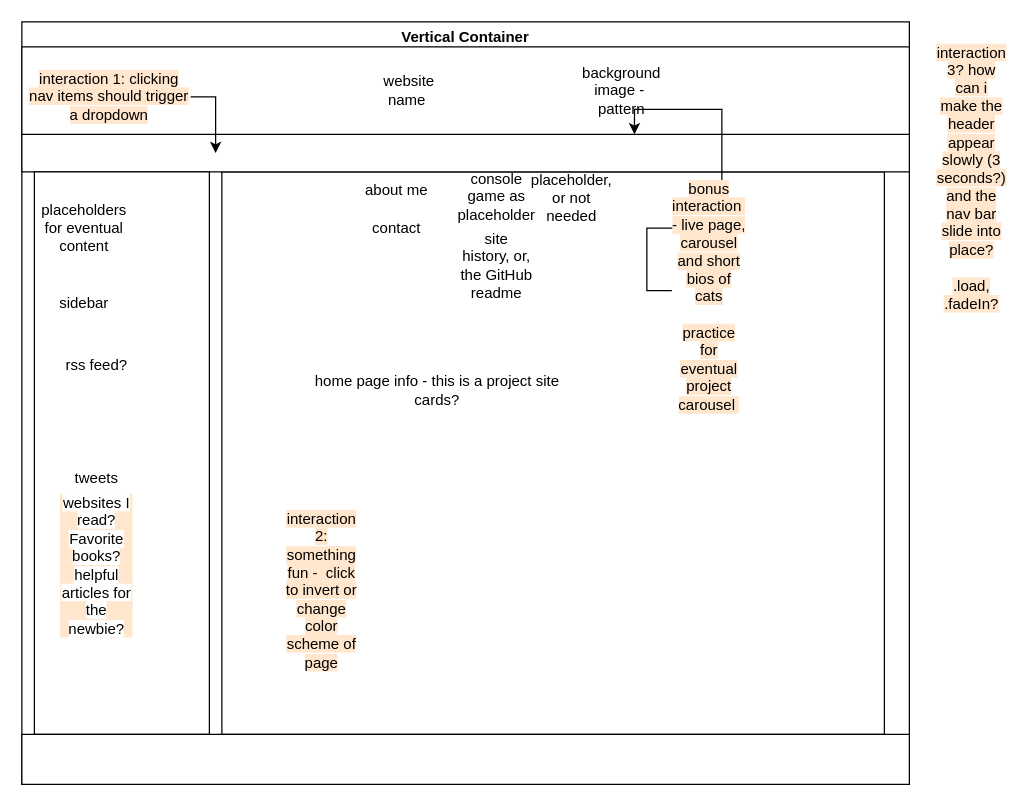
The diagram is 1031 pixels wide and 806 high, and some of its shapes have lost their labels. Each missing label, with the centre of its shape:
links - linked in, github repo - contact email: (465,758)
NavBar - home - bio - resume - projects - blog - cat pics: (465,152)
